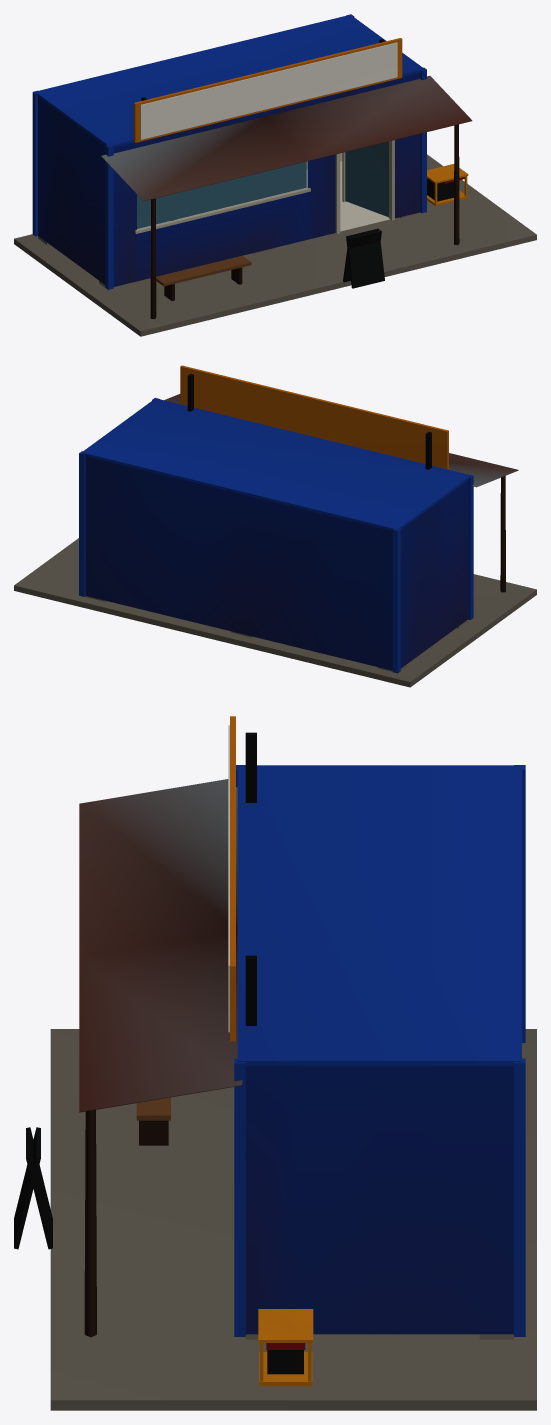
File: bb_barber_lod1.glb
The picture shows the model from 3 angles, top to bottom: view 1: azimuth 30°, elevation 25°; view 2: azimuth 150°, elevation 25°; view 3: azimuth 270°, elevation 25°; orthographic projection. The views are drawn at different scales.
Parts seen in each view (by area): view 1: bb_barber_lod1; view 2: bb_barber_lod1; view 3: bb_barber_lod1.
Boxes of the visible parts, x1=… form: bb_barber_lod1: x1=14, y1=14, x2=536, y2=336; bb_barber_lod1: x1=14, y1=365, x2=536, y2=687; bb_barber_lod1: x1=14, y1=716, x2=536, y2=1410.
Bounding box in the file's own units: 7.66 × 3.48 × 4.56.
